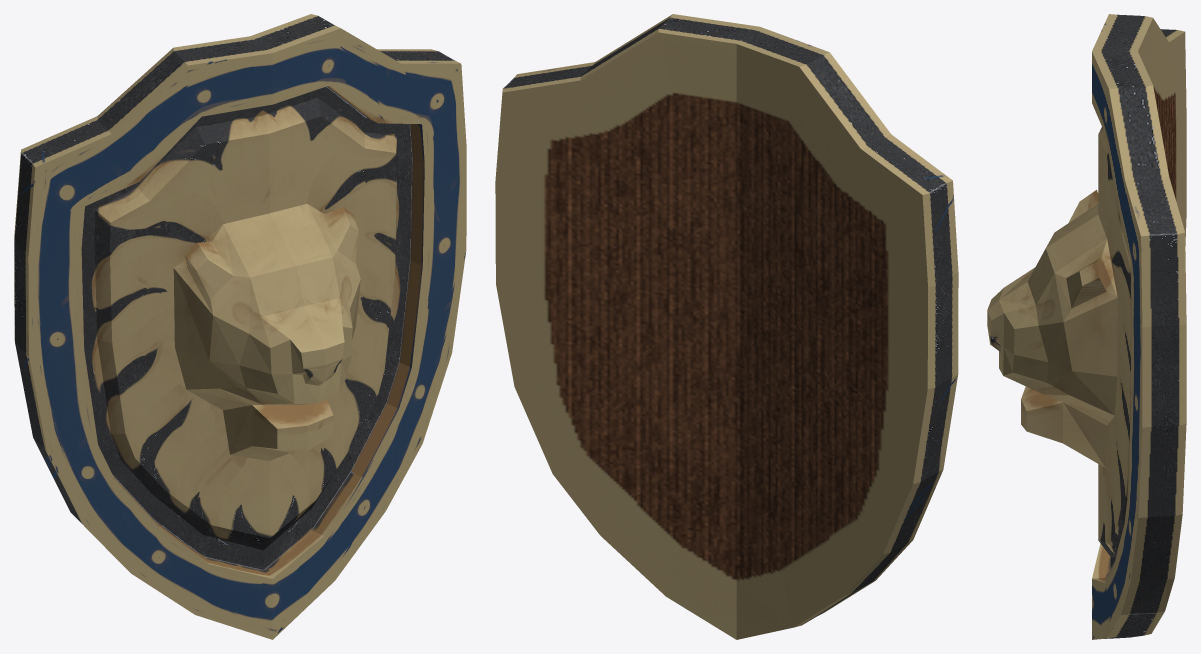
The model's file is Lion Shield.fbx.
3 views of the same model, side by side, from view 1: azimuth 30°, elevation 25°; view 2: azimuth 150°, elevation 25°; view 3: azimuth 270°, elevation 25° (orthographic). The views are drawn at different scales.
Visible parts, largest first — view 1: Lion_Shield; view 2: Lion_Shield; view 3: Lion_Shield.
Part boxes in pixels (x1,y1,x2,y2): Lion_Shield: (14,14,466,639); Lion_Shield: (495,14,958,639); Lion_Shield: (987,14,1186,639).
Size of the model in its own units: 138 by 177 by 54.35.
